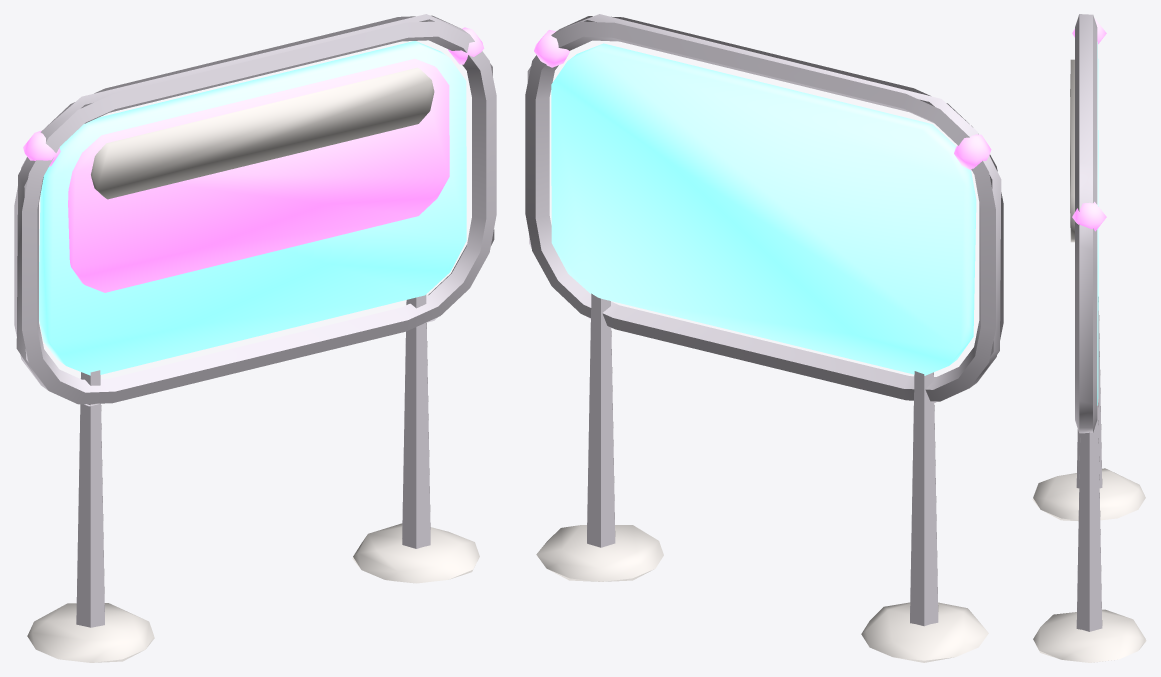
Rendered from lod_holo_sign.glb.
3 views of the same model, side by side, from view 1: azimuth 30°, elevation 25°; view 2: azimuth 150°, elevation 25°; view 3: azimuth 270°, elevation 25° (orthographic). The views are drawn at different scales.
Visible parts, largest first — view 1: holo_sign; view 2: holo_sign; view 3: holo_sign.
Boxes of the visible parts, bbox=[...] form: holo_sign: bbox=[14, 14, 496, 662]; holo_sign: bbox=[525, 14, 1003, 662]; holo_sign: bbox=[1032, 14, 1146, 662].
Size of the model in its own units: 2.91 by 3.21 by 0.6827.
